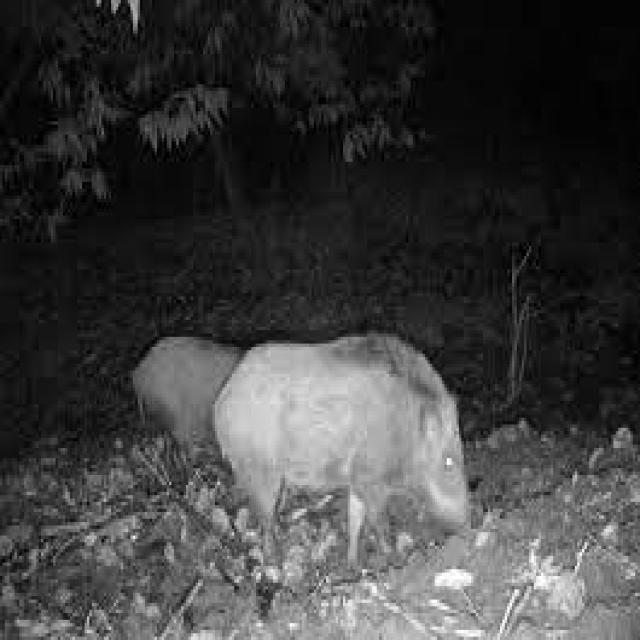boar: (172, 254, 489, 594)
